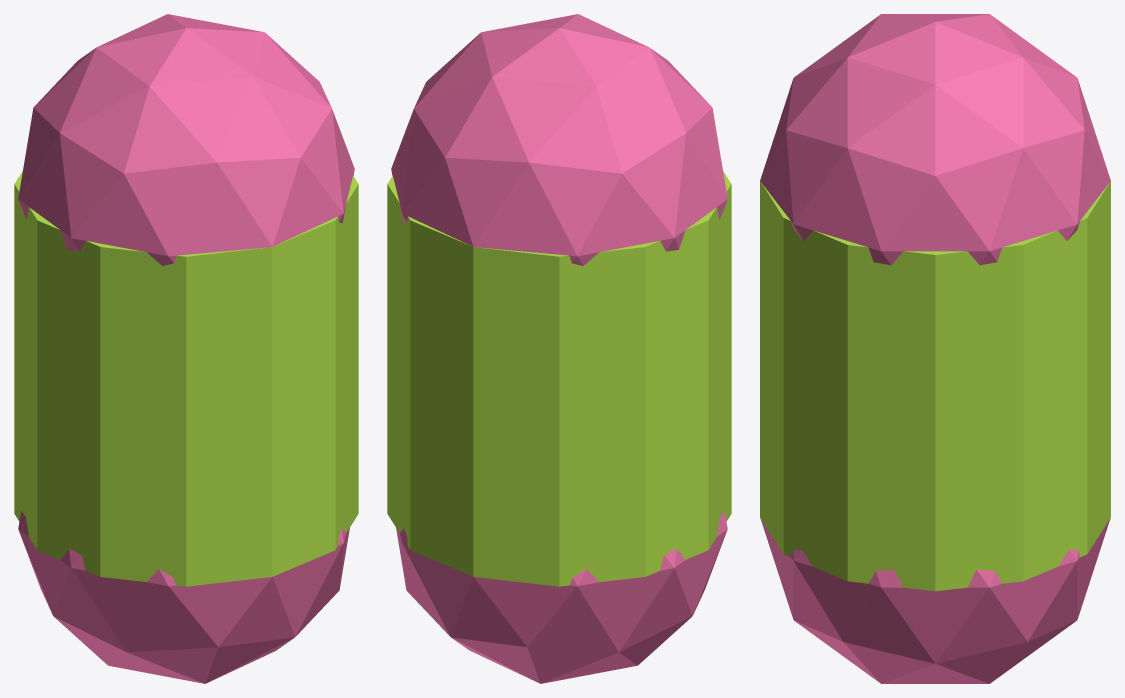
Rendered from jelly_capsule.glb.
The picture shows the model from 3 angles, left to right: view 1: azimuth 30°, elevation 25°; view 2: azimuth 150°, elevation 25°; view 3: azimuth 270°, elevation 25°; orthographic projection.
Visible parts, largest first — view 1: jelly_capsule; view 2: jelly_capsule; view 3: jelly_capsule.
Part boxes in pixels (box(x1,y1,x2,y2)): jelly_capsule: box(14, 14, 358, 683); jelly_capsule: box(387, 14, 731, 683); jelly_capsule: box(760, 14, 1110, 683).
Bounding box in the file's own units: 1.04 × 2.14 × 1.04.
